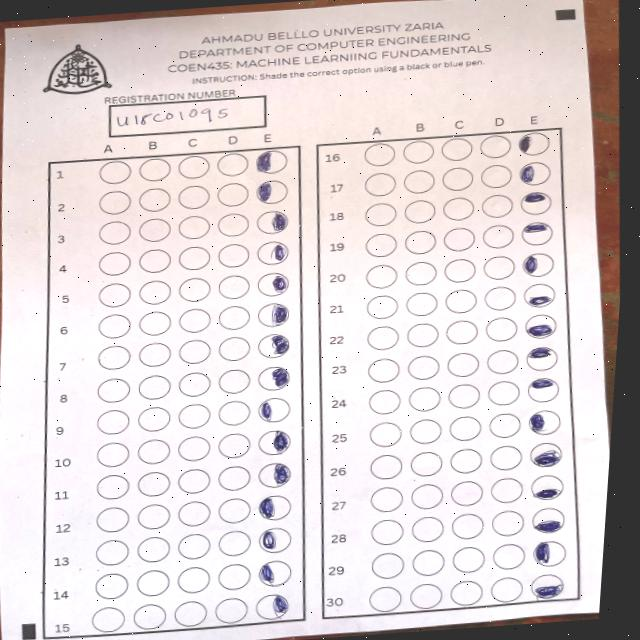bubble: (529, 506, 566, 535), (255, 494, 292, 522), (256, 558, 293, 586), (257, 461, 294, 489), (525, 408, 562, 436), (531, 538, 568, 566), (528, 473, 565, 501), (256, 396, 293, 424), (257, 526, 293, 554), (254, 592, 290, 620), (528, 441, 565, 468), (257, 428, 292, 456), (254, 148, 290, 175), (254, 178, 289, 205), (523, 344, 558, 371), (517, 160, 551, 187), (256, 271, 290, 298), (255, 209, 290, 235), (256, 332, 291, 358), (520, 252, 555, 278), (255, 240, 290, 266), (256, 302, 291, 328), (256, 364, 291, 390), (522, 282, 557, 308), (523, 313, 558, 339), (529, 573, 564, 599), (519, 220, 553, 246), (526, 376, 560, 402), (517, 130, 550, 156), (519, 190, 553, 215)
